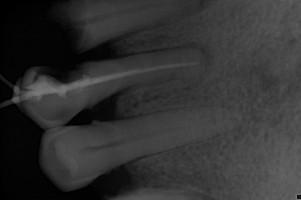Furcation Involvement: (177, 42, 214, 71)
